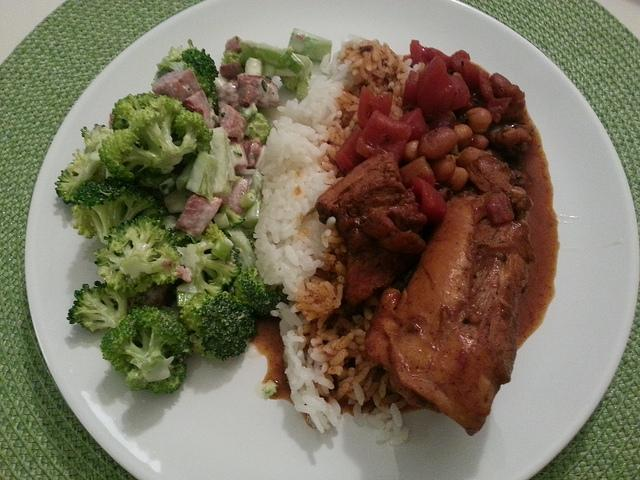broccoli: (80, 91, 214, 182), (100, 306, 196, 394), (92, 213, 182, 293), (177, 270, 256, 360), (73, 176, 164, 244), (226, 229, 289, 318), (66, 280, 128, 332), (180, 38, 219, 110), (203, 126, 240, 198), (55, 148, 100, 205), (288, 28, 332, 63)
tomato: (416, 56, 469, 123), (361, 110, 412, 164), (480, 71, 512, 124), (412, 176, 446, 224), (334, 126, 368, 174), (357, 85, 393, 128), (410, 39, 452, 70), (448, 51, 479, 90), (398, 108, 428, 142), (402, 70, 420, 107)
